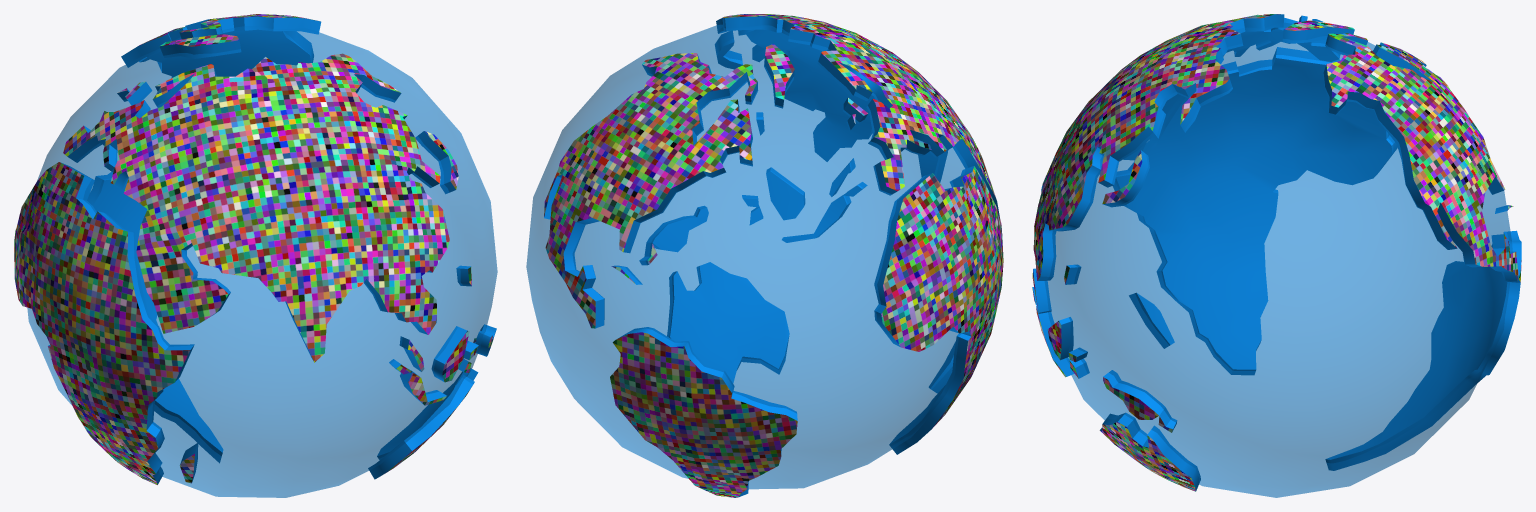
Rendered from earth.obj.
3 renders of one model, left to right at view 1: azimuth 30°, elevation 25°; view 2: azimuth 150°, elevation 25°; view 3: azimuth 270°, elevation 25°, orthographic.
Parts seen in each view (by area): view 1: earth; view 2: earth; view 3: earth.
Part boxes in pixels (bbox=[...]): earth: bbox=[14, 14, 497, 497]; earth: bbox=[526, 14, 1003, 497]; earth: bbox=[1032, 14, 1521, 497].
Size of the model in its own units: 1.99 by 2 by 2.01.
Materials: 3 (1 with a texture image).
